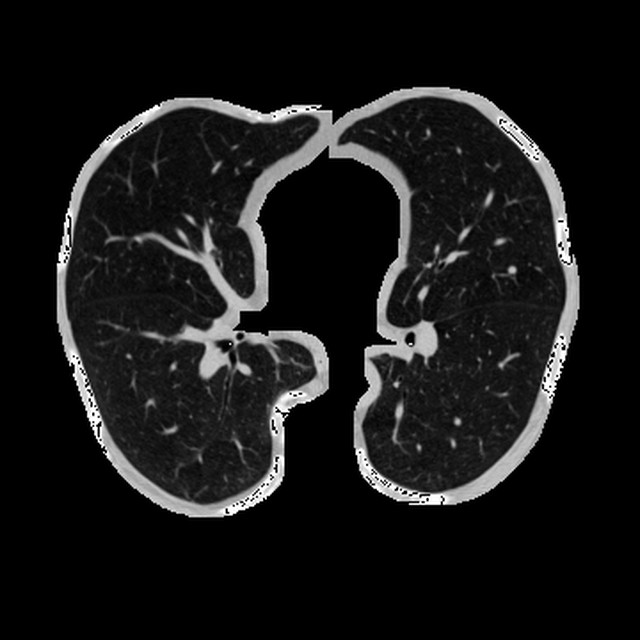PN: (507, 263, 517, 274)
